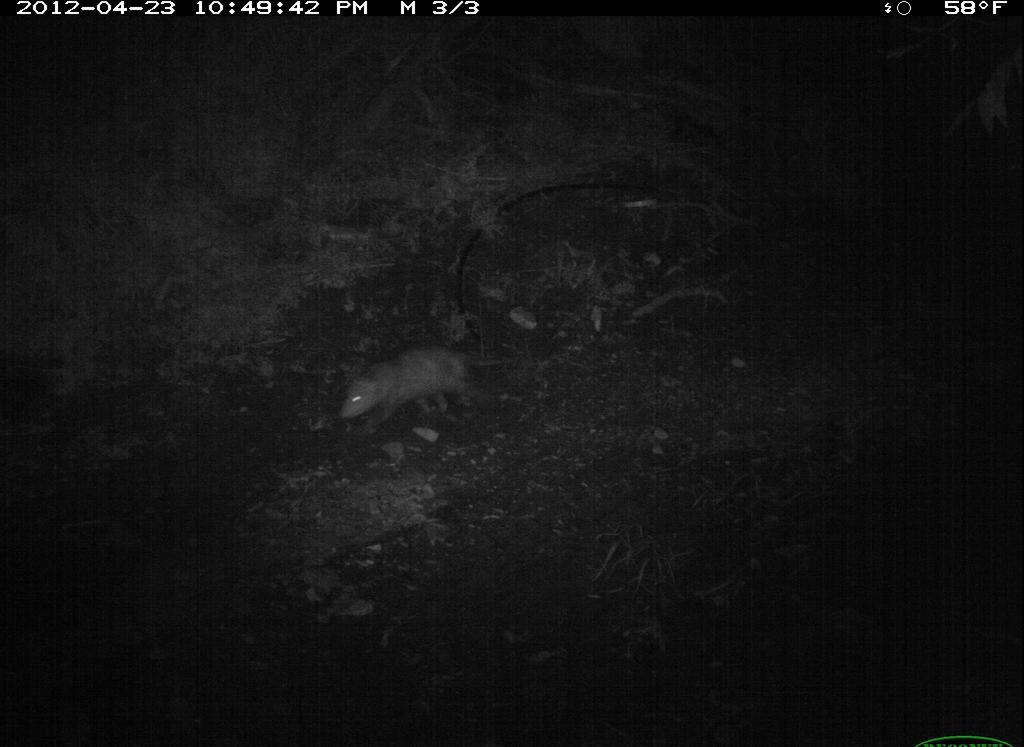opossum: (331, 344, 538, 441)
